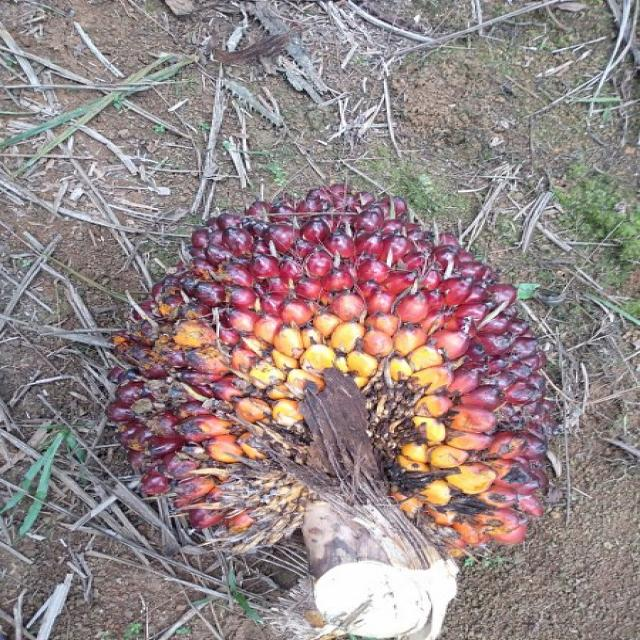fraksi 1: (66, 138, 602, 600)
